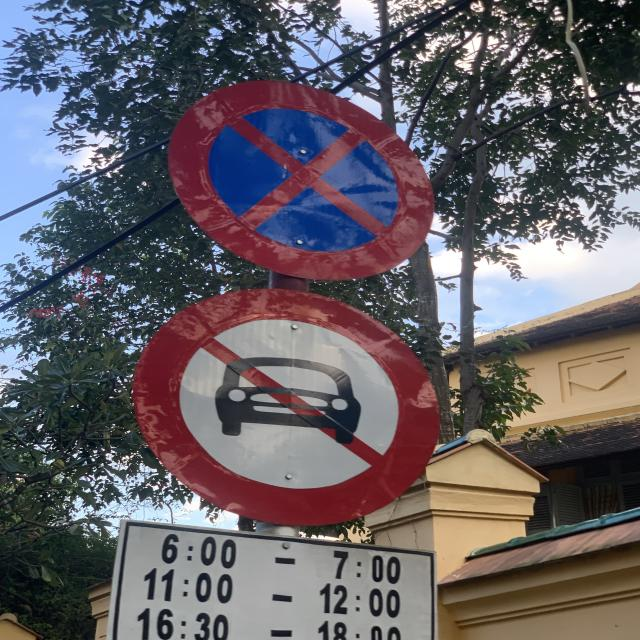Cam_Dung_Va_Dau_Xe: (167, 80, 435, 280)
Cam_O_To: (133, 287, 448, 530)
